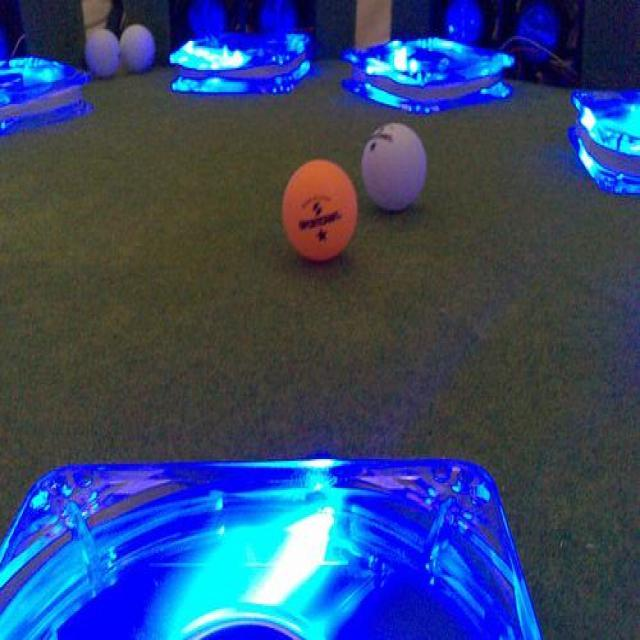ping-pong-ball: (280, 158, 360, 262), (361, 121, 429, 212), (82, 27, 122, 79), (120, 22, 160, 71)
